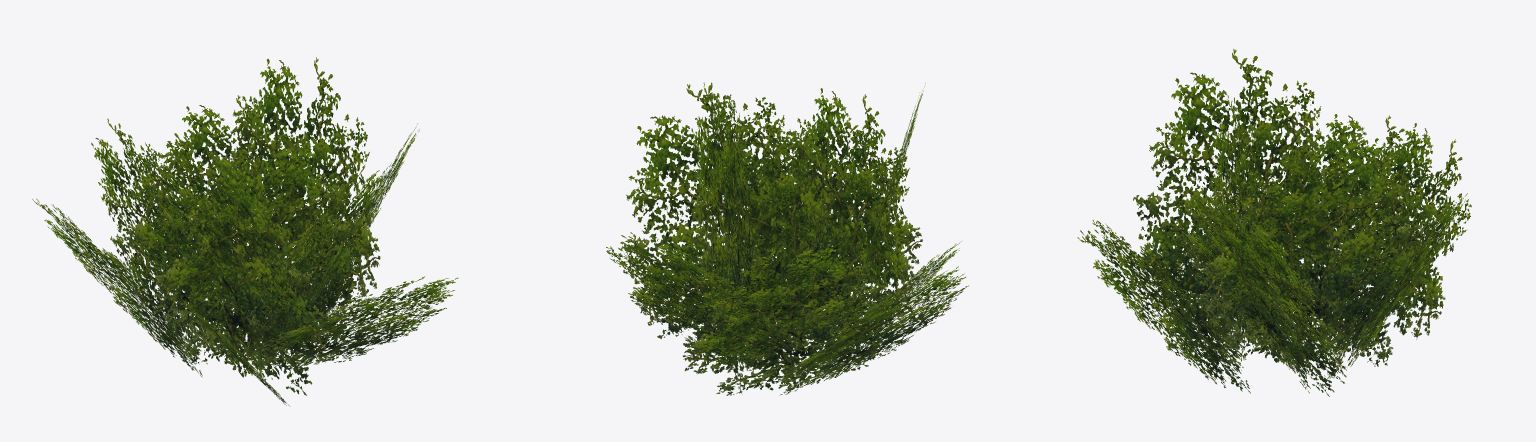
File: shrub02_lod1.glb
3 renders of one model, left to right at view 1: azimuth 30°, elevation 25°; view 2: azimuth 150°, elevation 25°; view 3: azimuth 270°, elevation 25°, orthographic. The views are drawn at different scales.
Visible parts, largest first — view 1: shrub02_lod1; view 2: shrub02_lod1; view 3: shrub02_lod1.
Part boxes in pixels (bbox=[...]): shrub02_lod1: bbox=[32, 57, 458, 406]; shrub02_lod1: bbox=[606, 82, 968, 395]; shrub02_lod1: bbox=[1077, 49, 1471, 396].
Size of the model in its own units: 5.89 by 4.22 by 5.84.
1 material, 1 textured.
